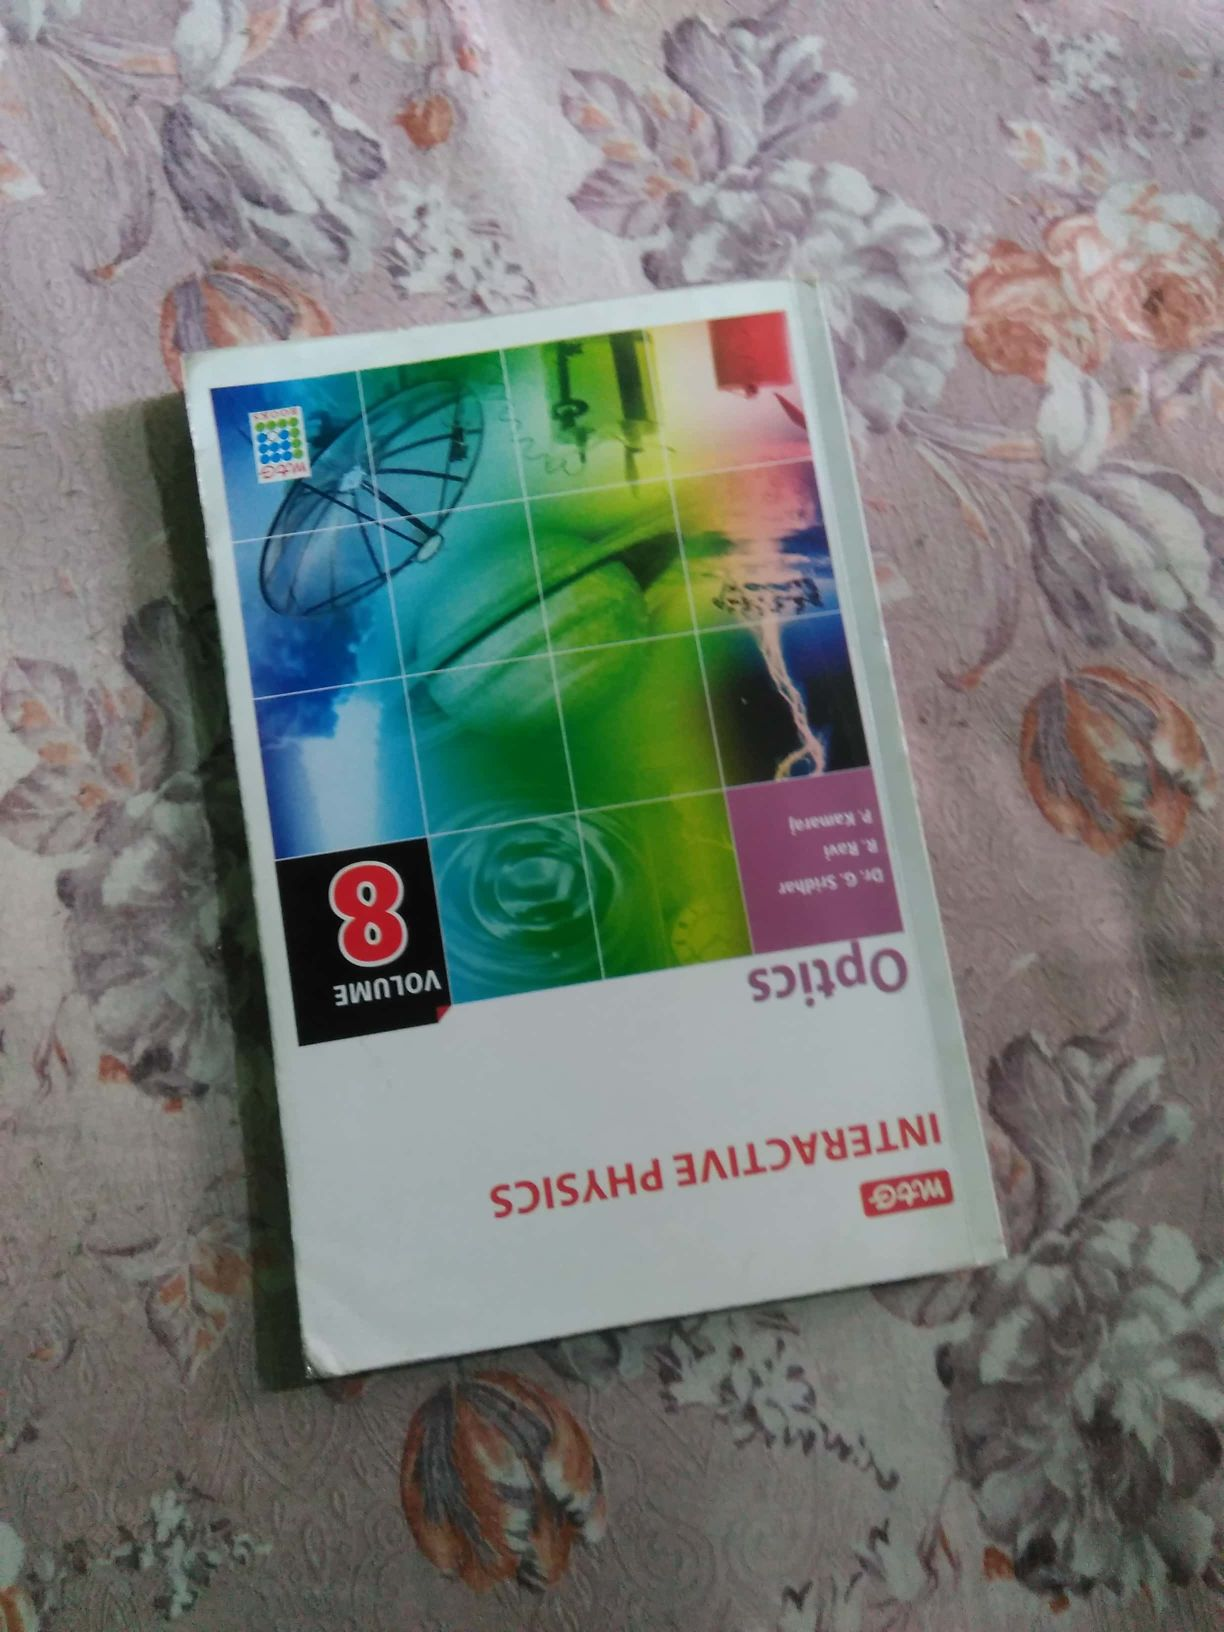optics: (186, 256, 1014, 1392)
